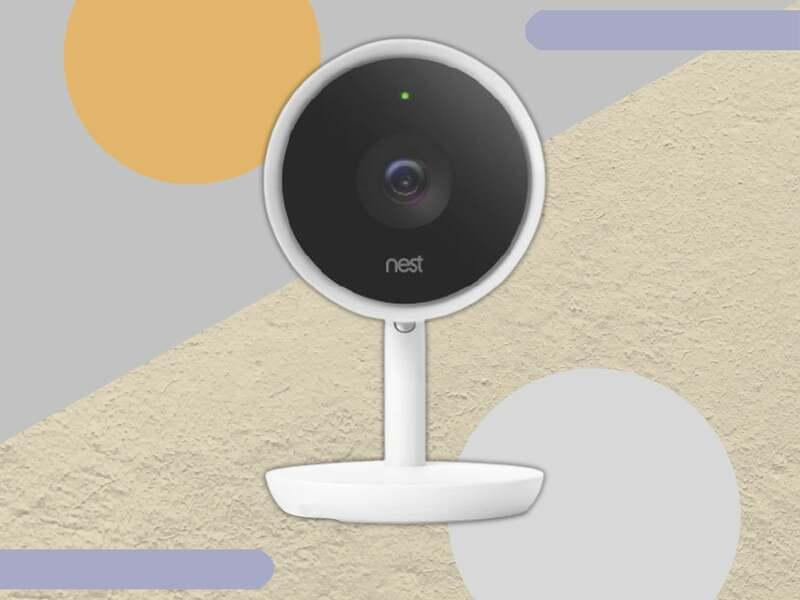nest: (248, 30, 556, 335)
